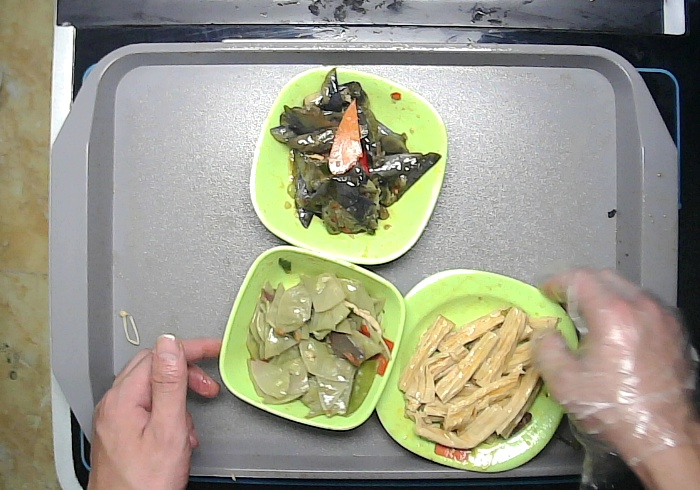SHKJ-Lv_Se_Cai_Die: (249, 64, 448, 264)
SHKJ-Lv_Se_Si_Fang_Cai_Die: (375, 269, 577, 472)
SHKJ-Lv_Se_Xiao_Fang_Die: (219, 245, 405, 435)
